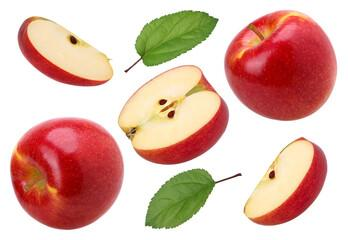apple: (222, 7, 345, 123), (9, 114, 126, 232), (117, 63, 234, 164), (14, 13, 119, 104), (242, 135, 330, 234)
